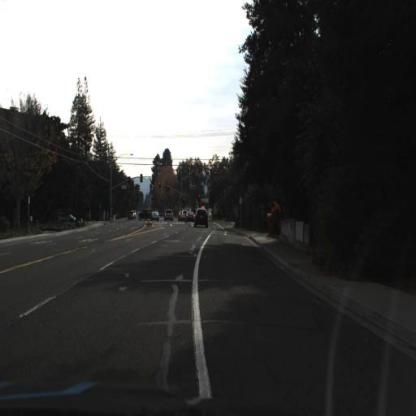car: (193, 207, 209, 228), (57, 212, 77, 225), (139, 209, 151, 221), (165, 209, 175, 222), (128, 209, 136, 220), (152, 211, 160, 222)
trafficLight-Red: (158, 179, 163, 194)
